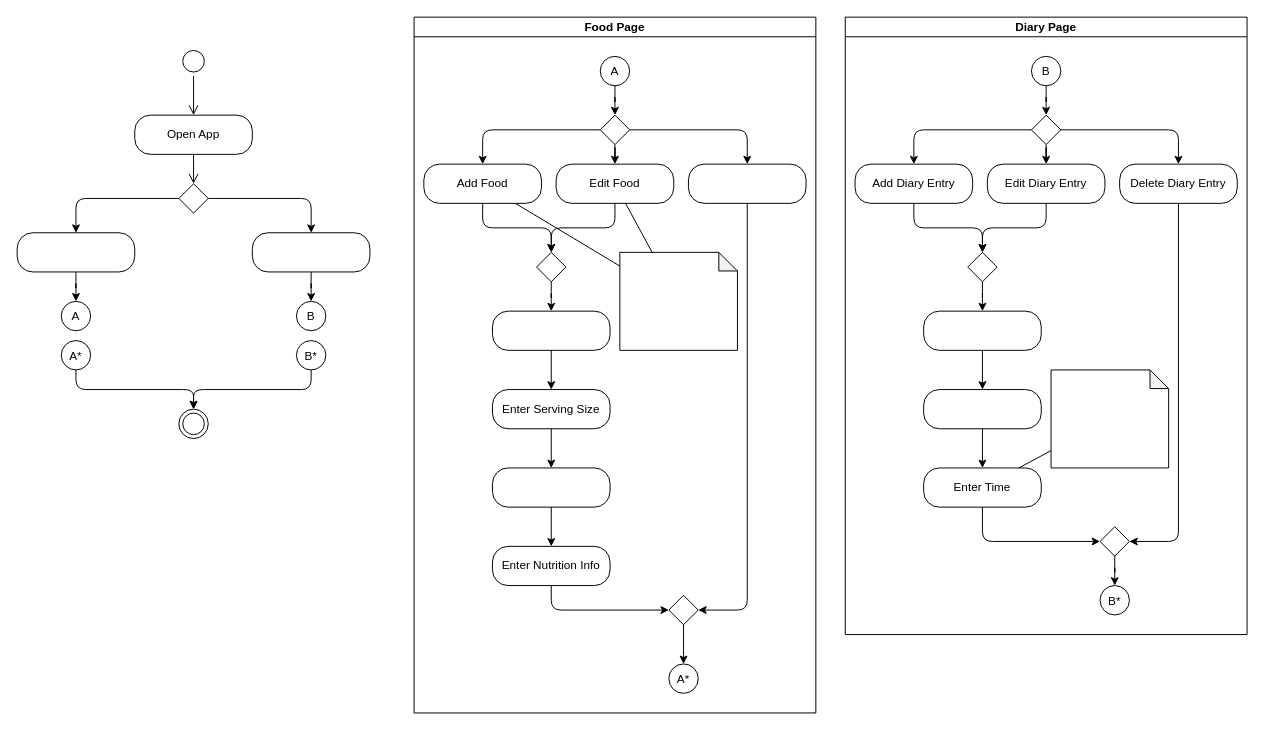
This 1264x730 diagram has some shape labels left out. The box of each missing label's shape, as (x1, y1, x2, y2) in pixels:
Delete Food: (687, 163, 806, 203)
Enter Name: (491, 310, 610, 350)
Enter Number of Servings: (923, 389, 1041, 429)
Enter Serving Unit: (491, 467, 610, 507)
Open Diary Page: (251, 232, 370, 272)
Open Food Page: (16, 232, 135, 272)
Select Food: (923, 310, 1041, 350)
These features are not fully implemented as of the writing of this document: (619, 251, 737, 350)
This feature is not fully implemented as of the writing of this document: (1050, 369, 1169, 468)
